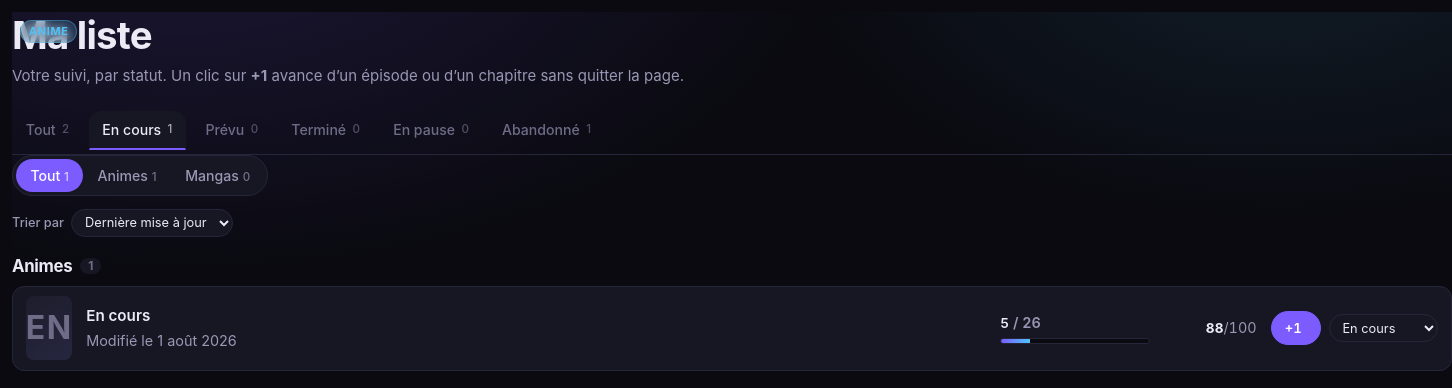
Test: ListPage — onglets et compteurs › change d’onglet sans quitter la page
Click the tab "Abandonné 1": (546, 130) [488,111,605,150]
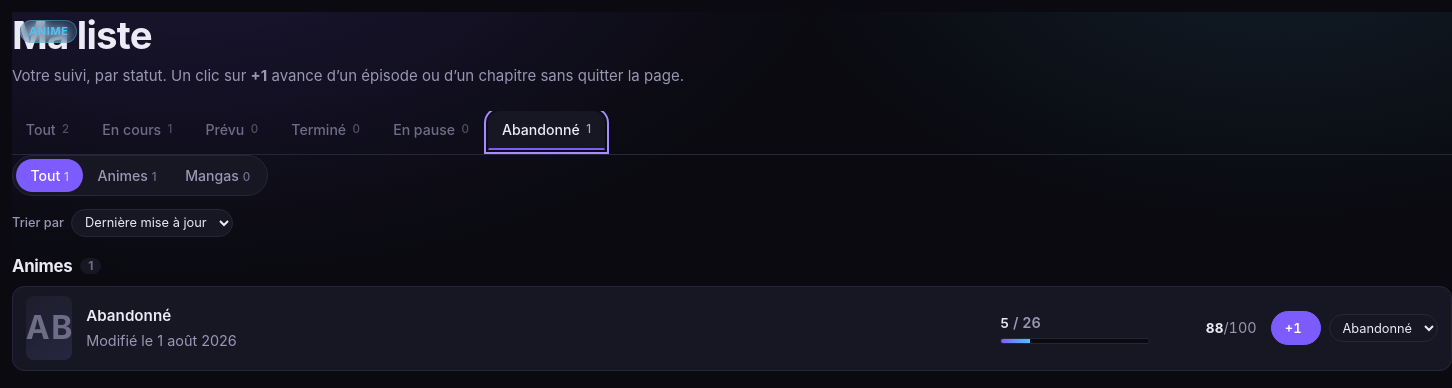
Check: the link "Abandonné" is shown, box [86,306,171,325]
